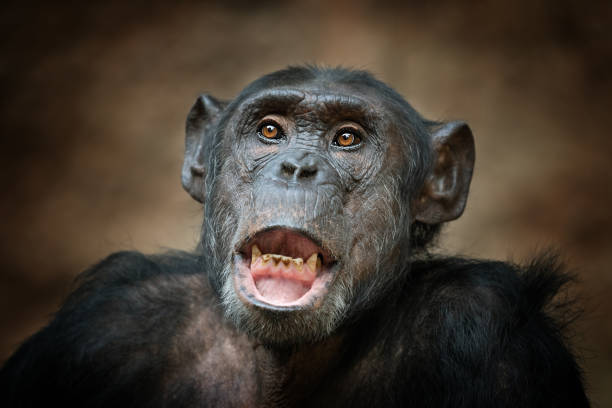chimpanzee: (153, 41, 506, 353)
